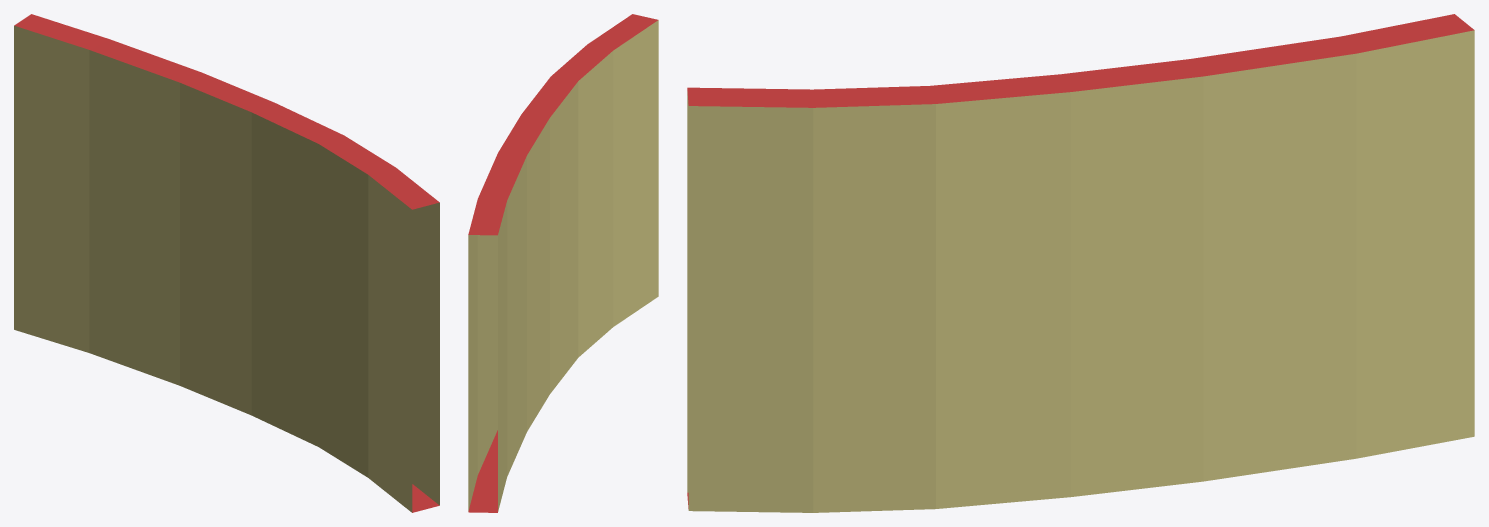
3 renders of one model, left to right at view 1: azimuth 30°, elevation 25°; view 2: azimuth 150°, elevation 25°; view 3: azimuth 270°, elevation 25°, orthographic. The views are drawn at different scales.
Bounding box in the file's own units: 3.26 × 11.72 × 6.68.
